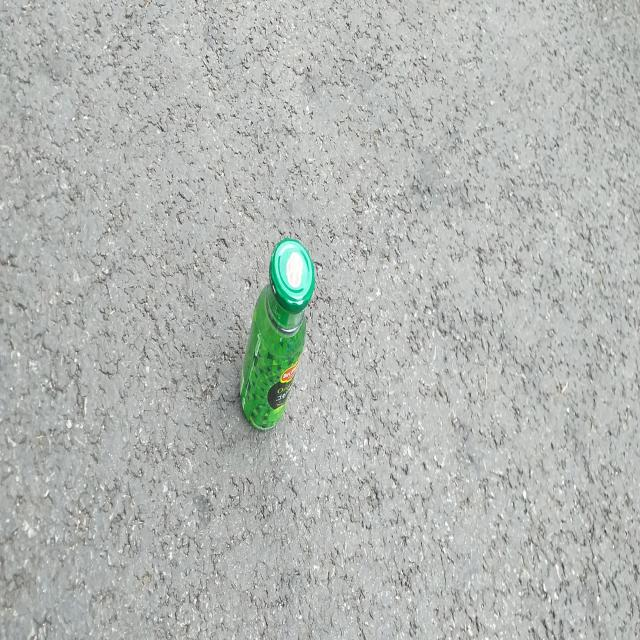glass: (240, 238, 315, 430)
